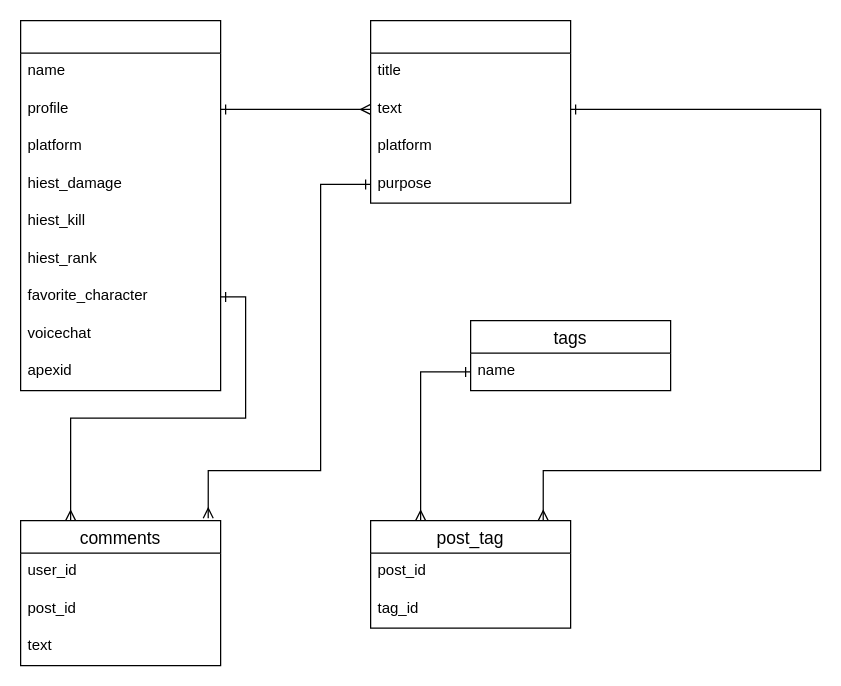
Some shapes in this 841 by 686 pixel diagram are drawn without their labels. The box of each missing label's shape, as (x1, y1, x2, y2) in pixels:
posts: (369, 19, 571, 203)
users: (19, 19, 221, 391)
